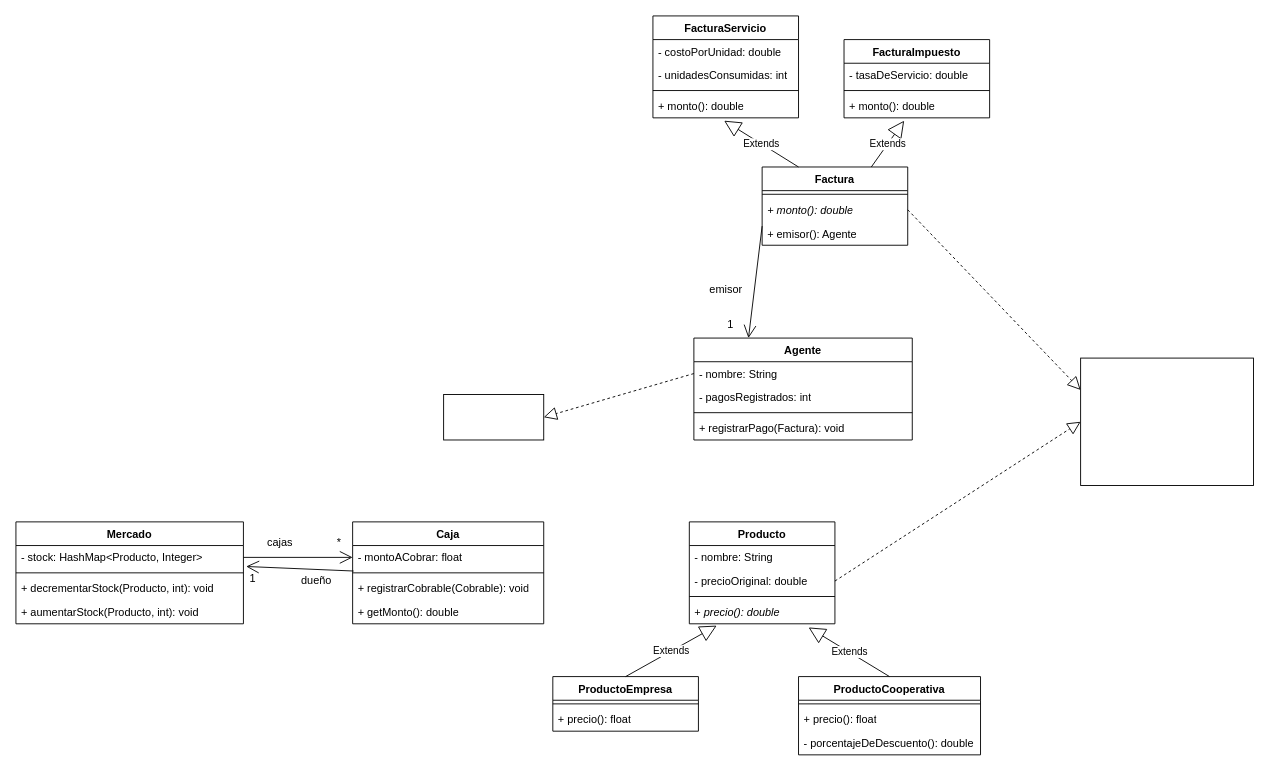
The diagram is 1269 pixels wide and 774 high, and some of its shapes have lost their labels. The centre of each missing label's shape, as x and y in pixels:
"<<Interface>> Cobrable + registrarPagoEn(Caja): void" goes at [1167,421].
"«interface» Agencia" goes at [493,417].
